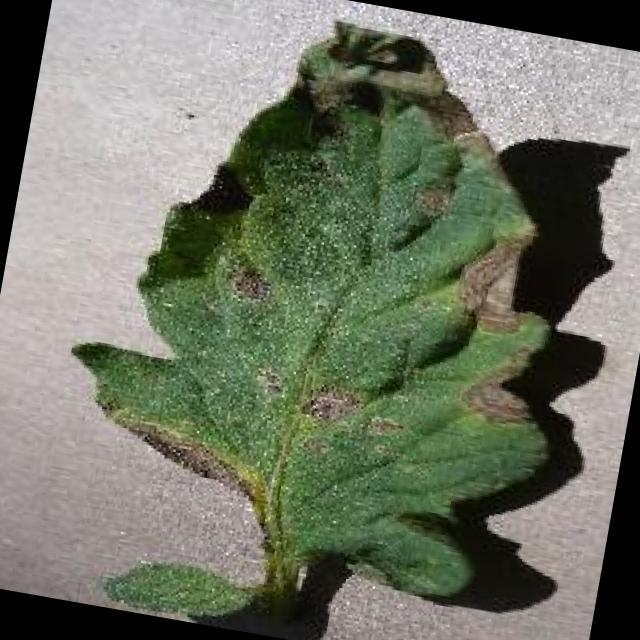Tomato_Early_Blight: (80, 34, 600, 618)
